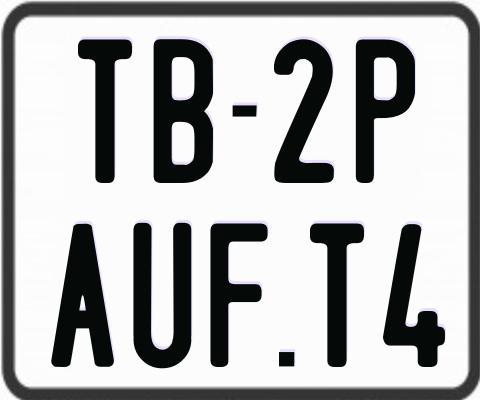2: (272, 37, 332, 186)
4: (382, 223, 447, 367)
A: (49, 224, 117, 372)
B: (152, 38, 216, 182)
F: (207, 222, 271, 368)
P: (356, 36, 420, 185)
T: (307, 220, 367, 370), (78, 38, 138, 186)
U: (131, 222, 195, 372)
